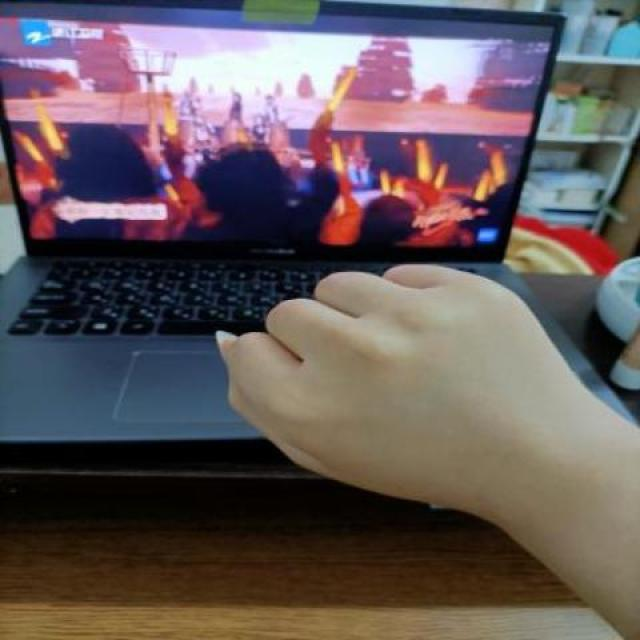fist: (209, 222, 595, 553)
